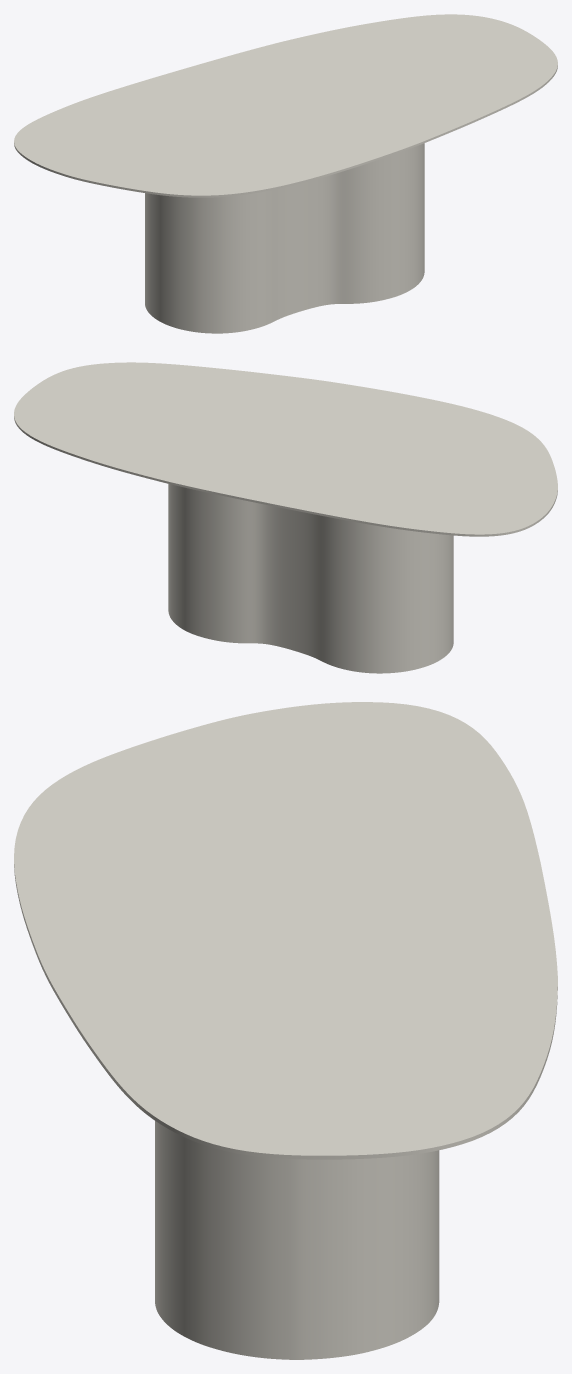
Rendered from pale_leaf2_facet_riverwave.glb.
3 views of the same model, one above another, from view 1: azimuth 30°, elevation 25°; view 2: azimuth 150°, elevation 25°; view 3: azimuth 270°, elevation 25° (orthographic). The views are drawn at different scales.
Parts seen in each view (by area): view 1: facet_leaf2, riverwave; view 2: facet_leaf2, riverwave; view 3: facet_leaf2, riverwave.
Boxes of the visible parts, box(x1,y1,x2,y2) form: facet_leaf2: box(14, 14, 557, 197); riverwave: box(145, 143, 424, 333); facet_leaf2: box(14, 362, 557, 536); riverwave: box(168, 484, 453, 673); facet_leaf2: box(14, 702, 557, 1159); riverwave: box(155, 1121, 439, 1359).
Bounding box in the file's own units: 7.5 × 2.5 × 3.8.
1 material, 1 textured.
